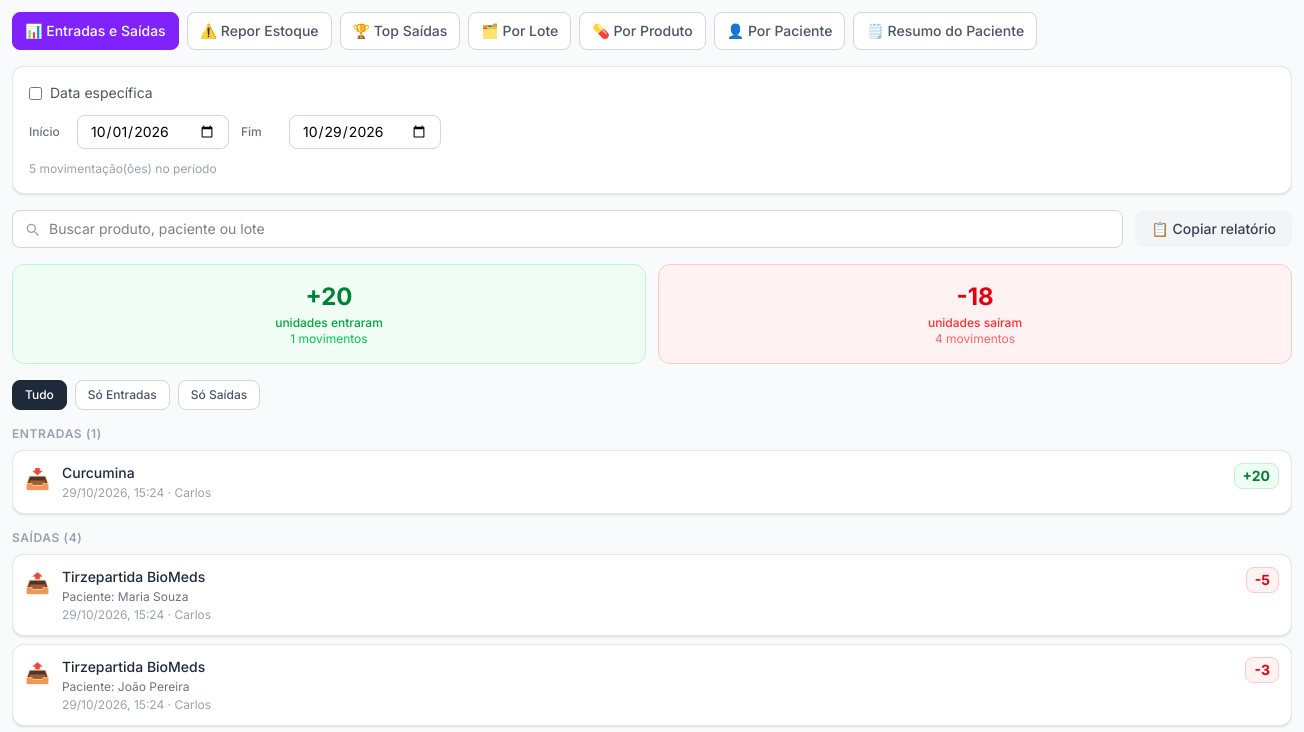
Test: RelatoriosTab — busca › Por Paciente: acha o paciente e mantém o total dele inteiro
Click the button "👤 Por Paciente": (780, 31) left=714, top=12, right=845, bottom=50
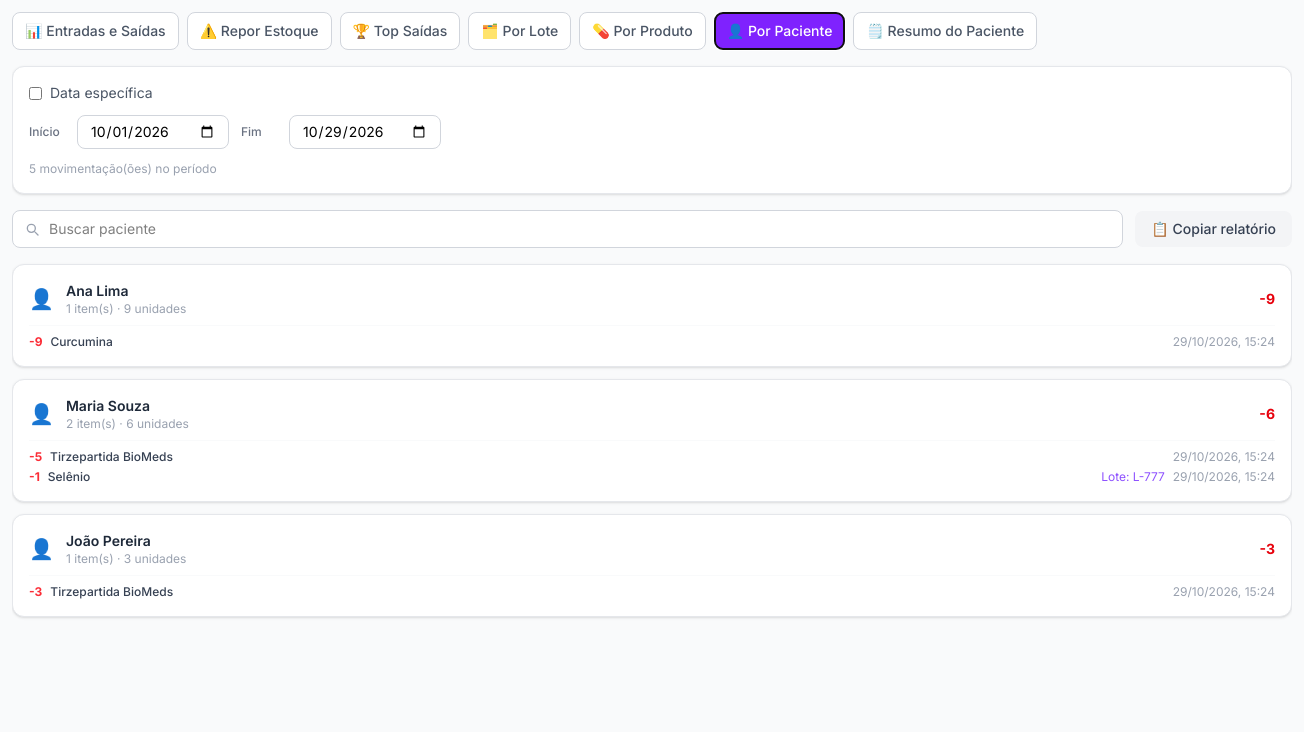
In the search field: (568, 229) left=12, top=210, right=1123, bottom=248, type "maria"
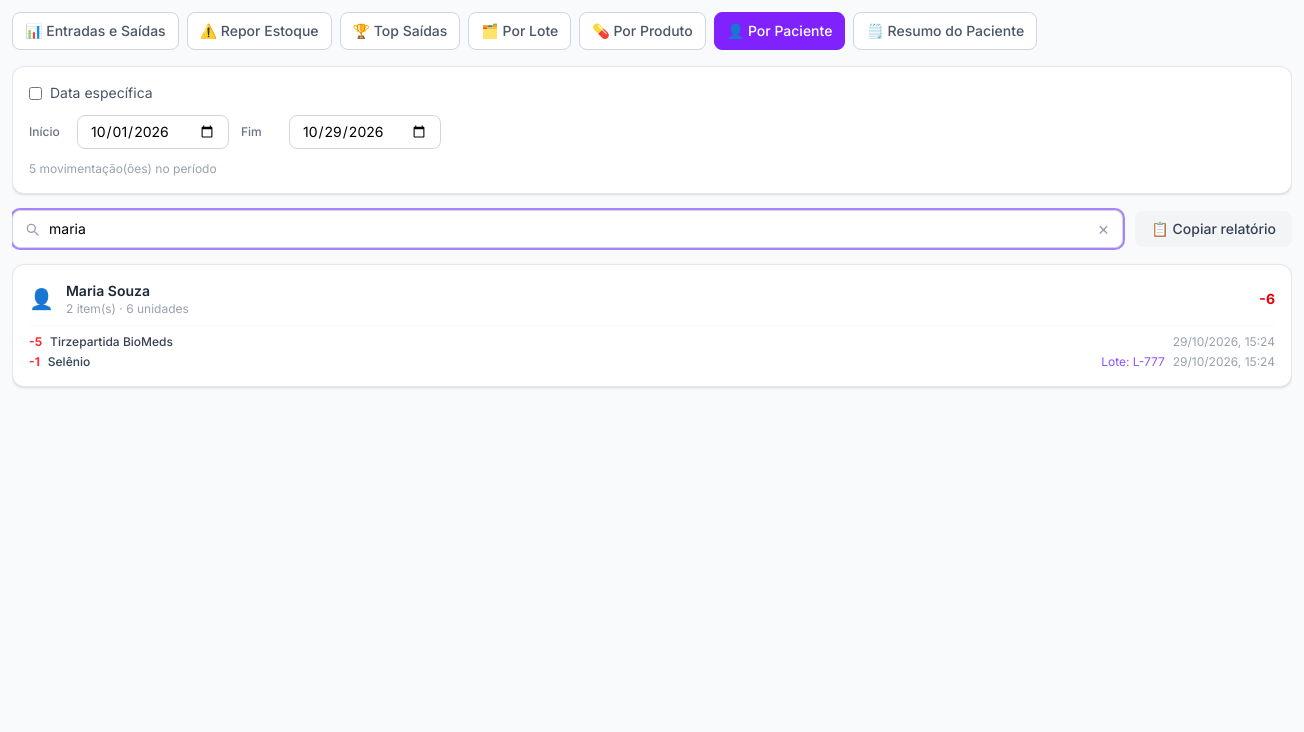
Expected: the text "Maria Souza" is shown, left=66, top=282, right=150, bottom=299
Expected: the text "2 item(s) · 6 unidades" is shown, left=66, top=301, right=189, bottom=316
Expected: the text "João Pereira" is gone
